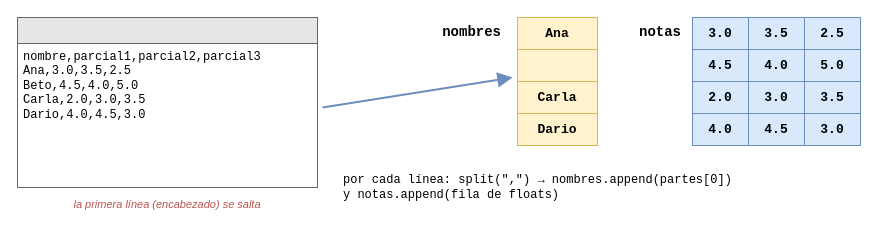
Some shapes in this 878 by 235 pixel diagram are drawn without their labels. The shapes that lost their labels are listed below. From the top down, each one's box as (x1, y1, x2, y2) in pixels, then its label:
(16, 16, 318, 44): 📄 notas.csv
(516, 48, 598, 82): Beto
